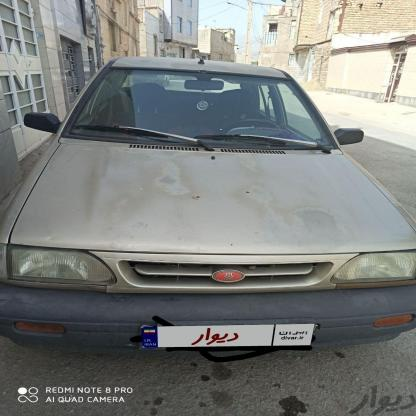Car: (0, 61, 416, 365)
